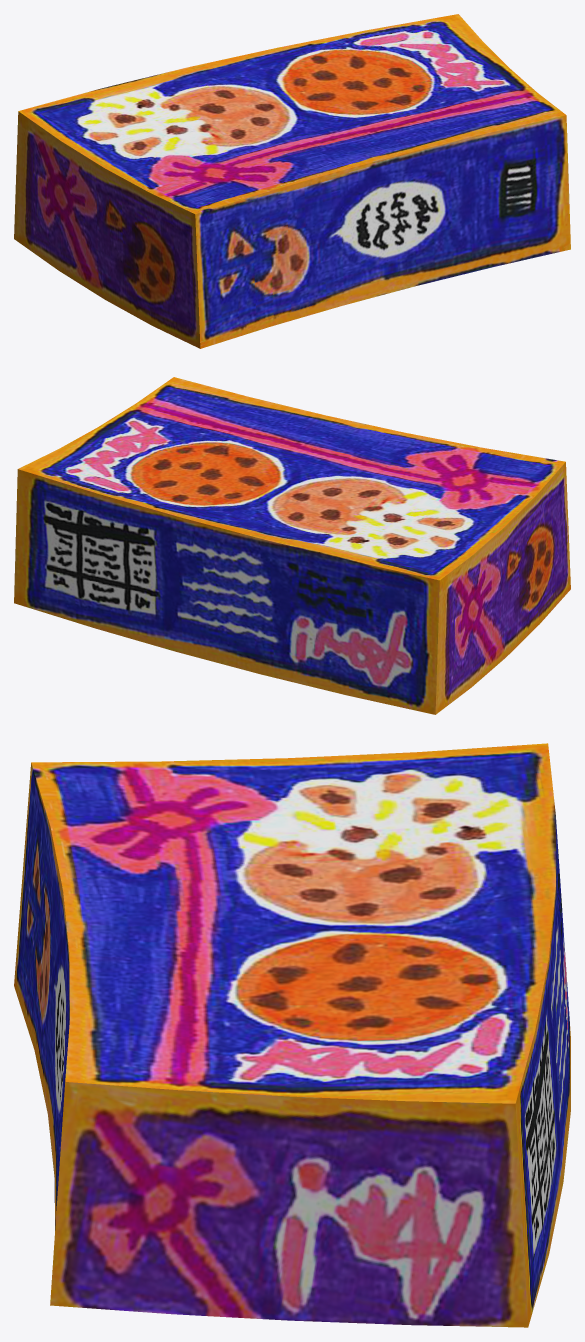
File: cookies_mesh.fbx
3 views of the same model, one above another, from view 1: azimuth 30°, elevation 25°; view 2: azimuth 150°, elevation 25°; view 3: azimuth 270°, elevation 25° (orthographic). The views are drawn at different scales.
Parts seen in each view (by area): view 1: cookies; view 2: cookies; view 3: cookies.
Boxes of the visible parts, x1=… form: cookies: x1=14, y1=14, x2=570, y2=348; cookies: x1=14, y1=377, x2=570, y2=714; cookies: x1=14, y1=743, x2=570, y2=1327.
Bounding box in the file's own units: 113 × 34.26 × 74.28.
